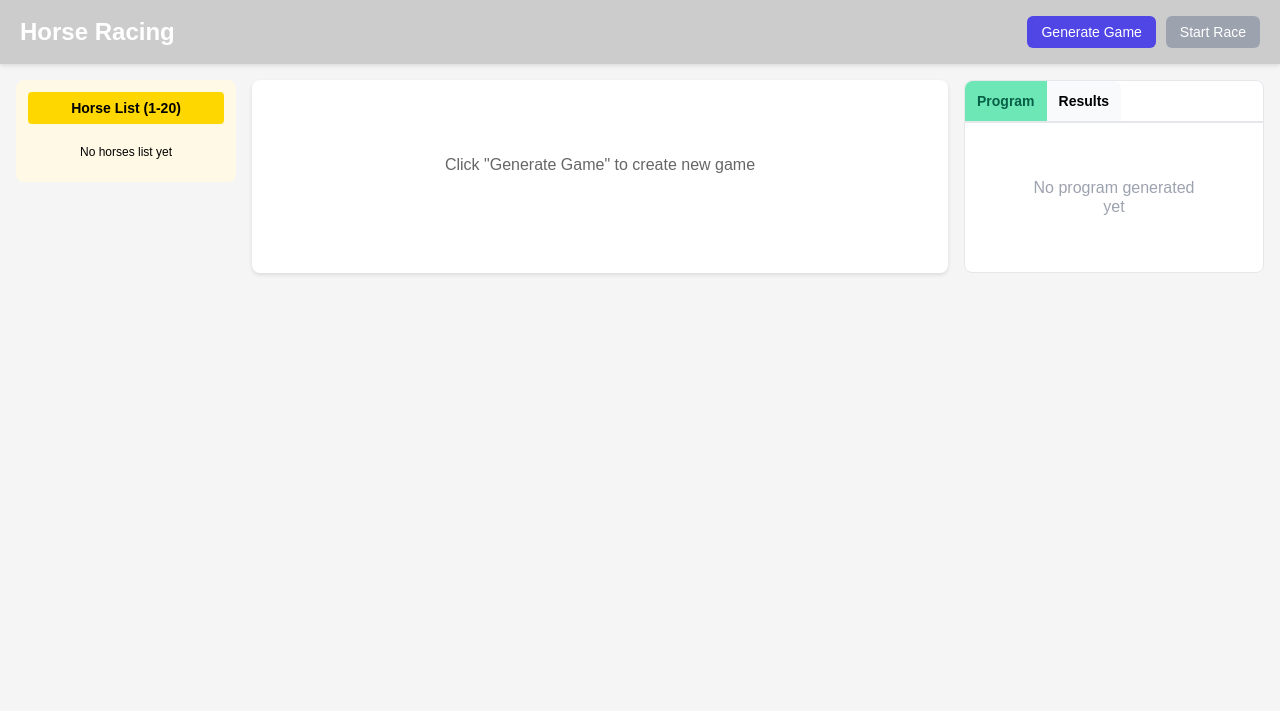
Horse Racing Game › should display horses list after game generation
Click the button "Generate Game". click: [1092, 32]
box: [1028,16,1156,48]
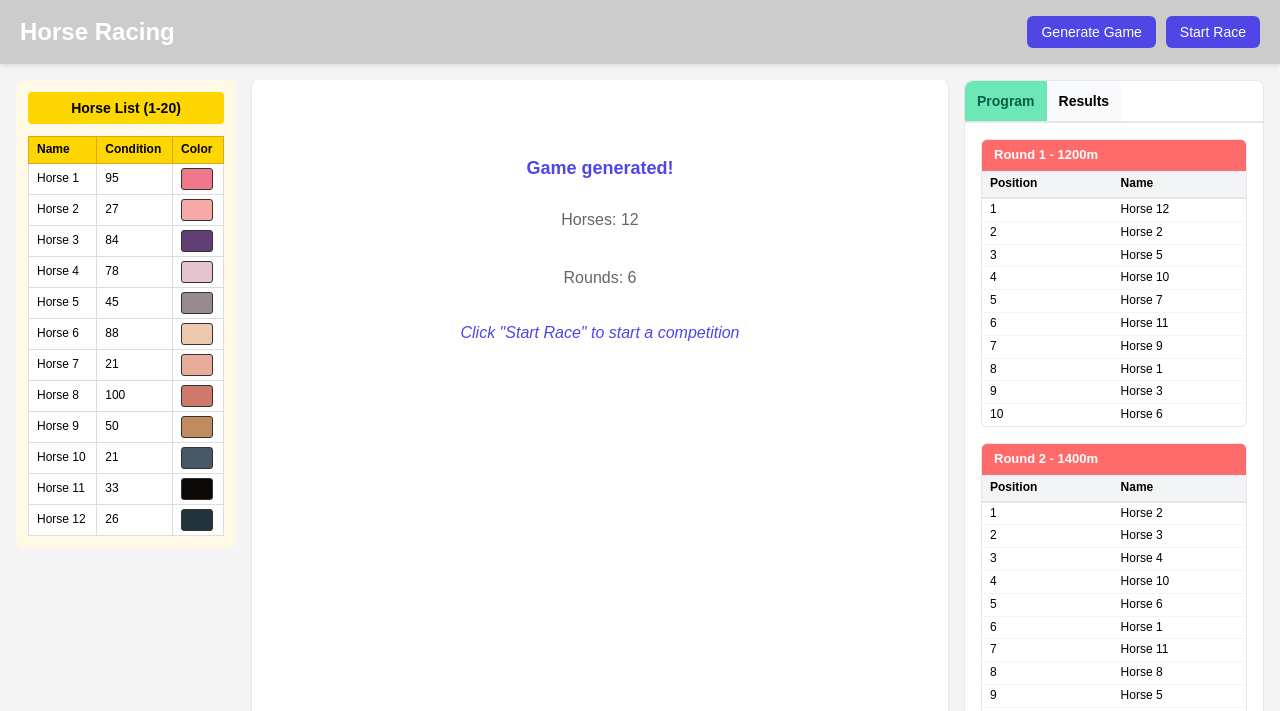
Expected: the number of rows is more than 0
Expected: the cell "Horse 1" next to "95" is shown, [37,171,79,185]
